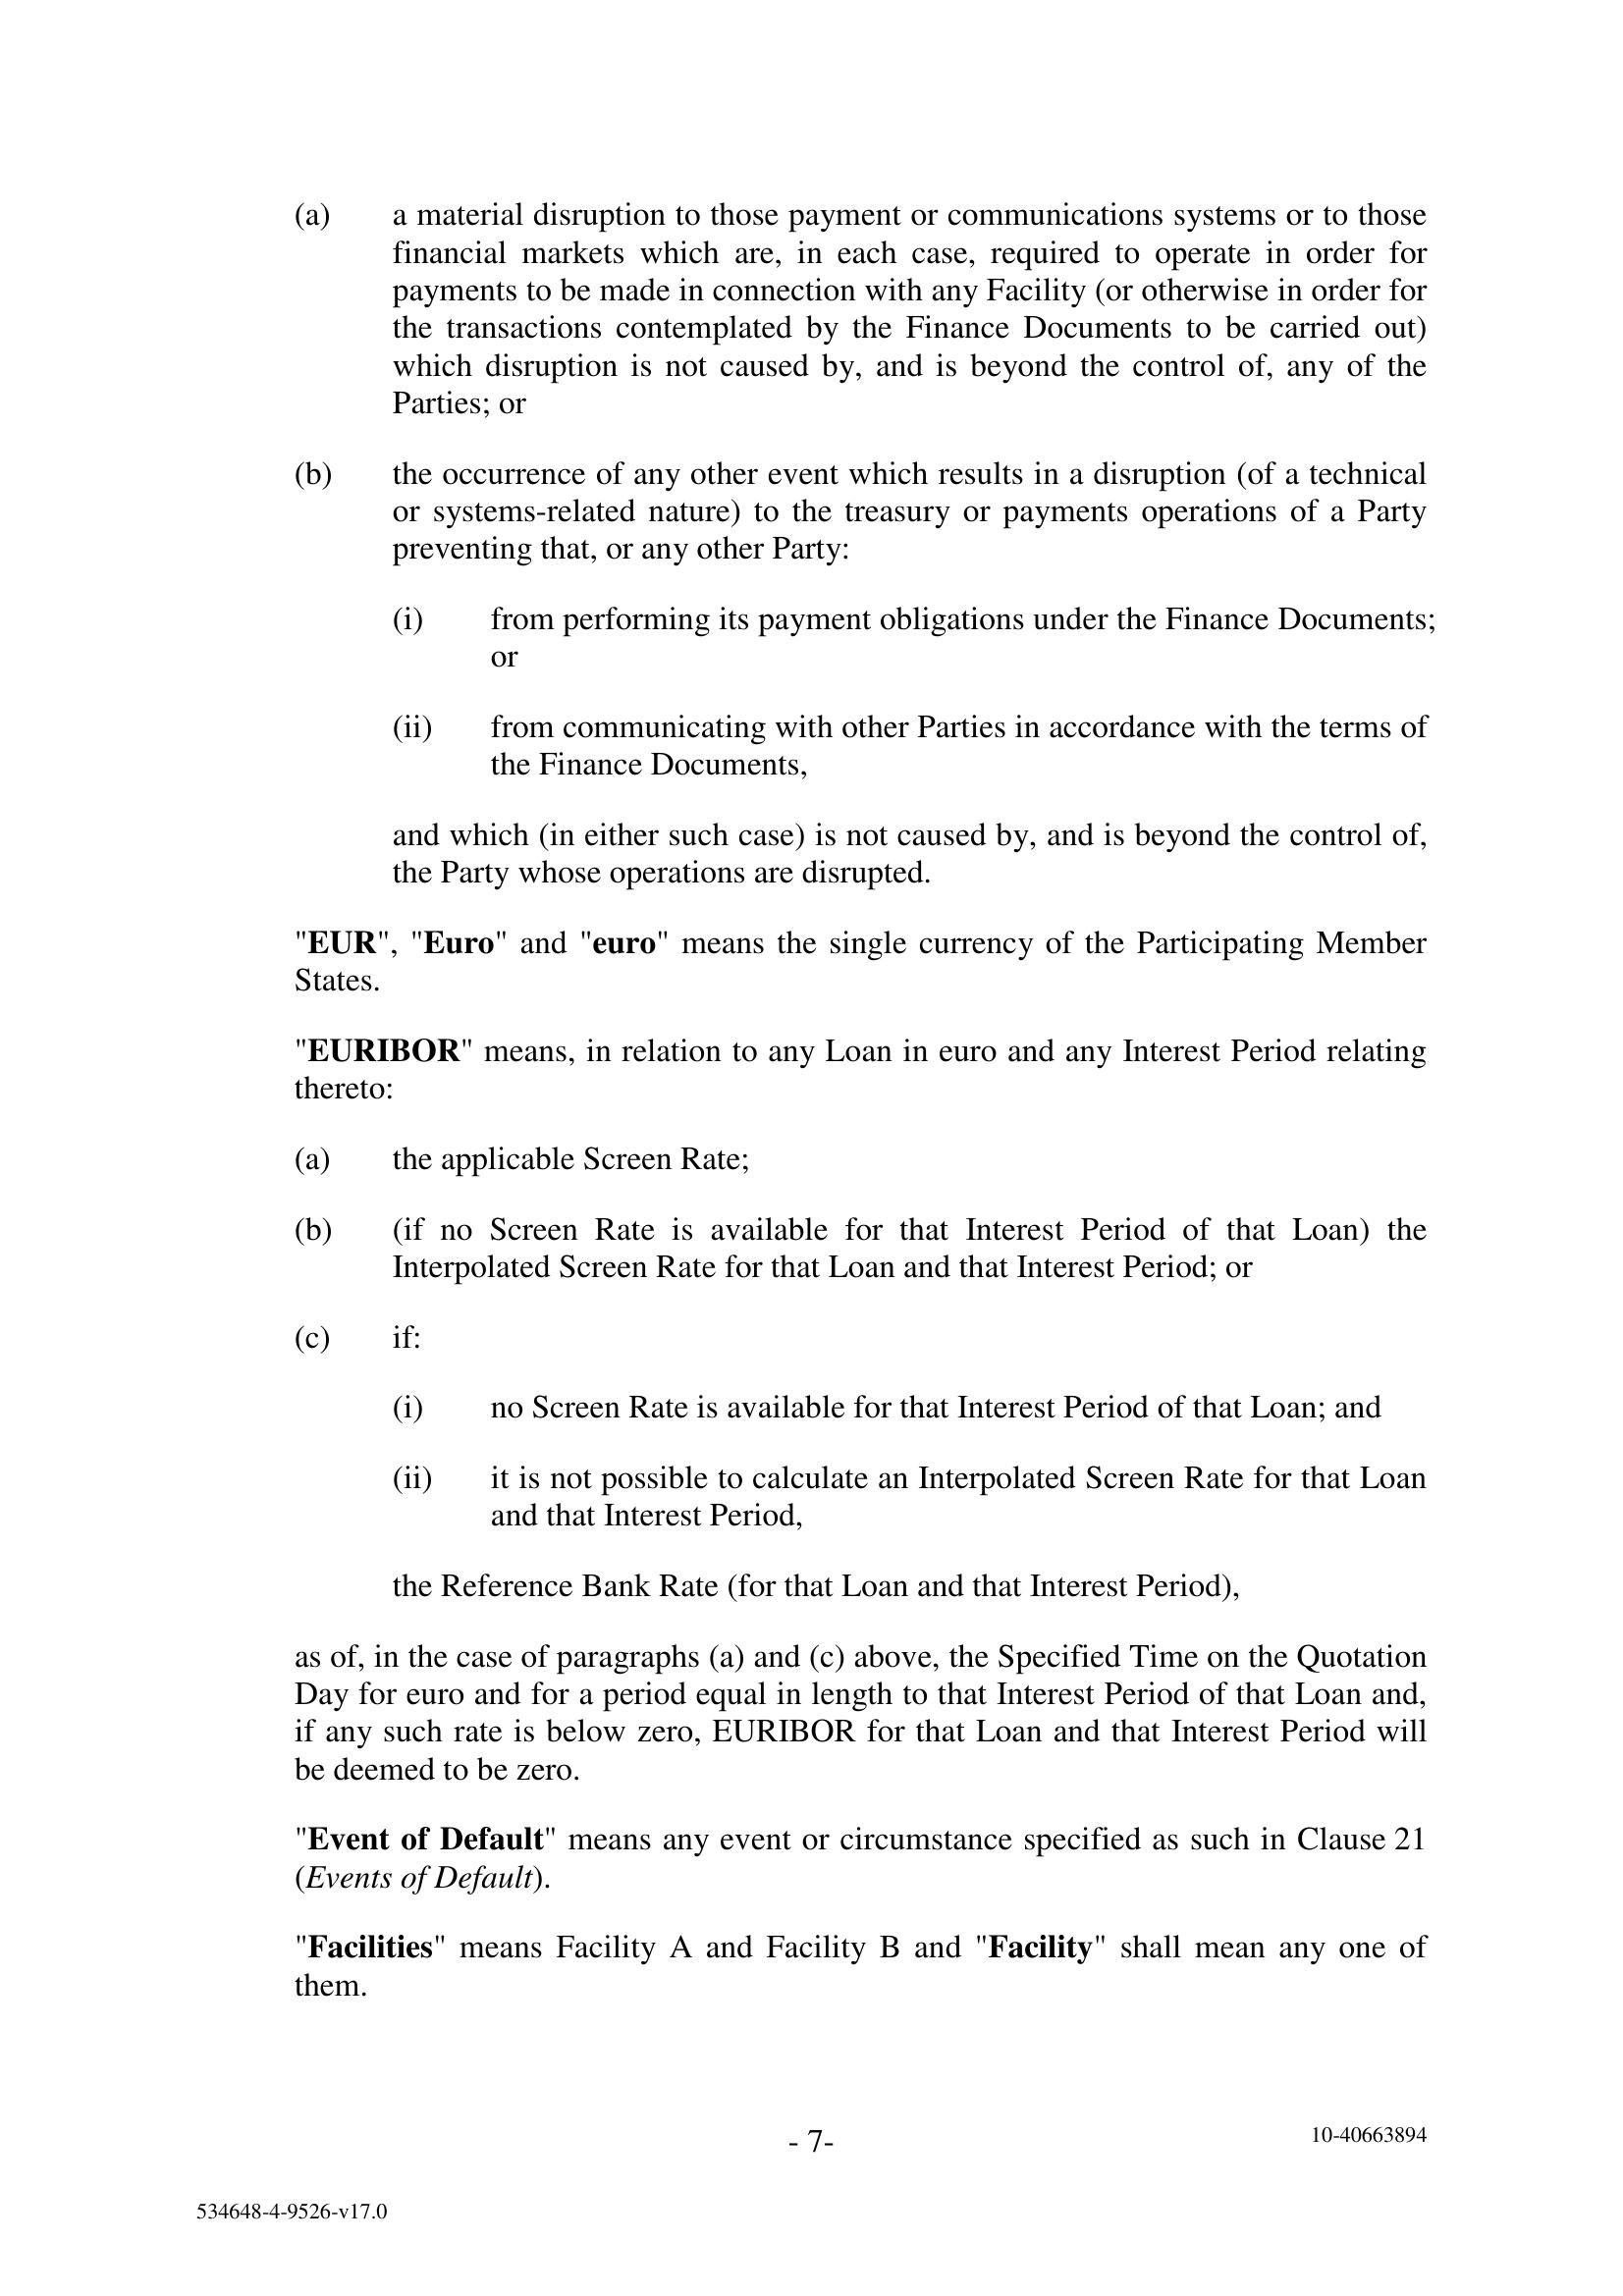pageno: (729, 2077, 901, 2222)
tag: (90, 2161, 502, 2270), (1198, 2078, 1554, 2191)
